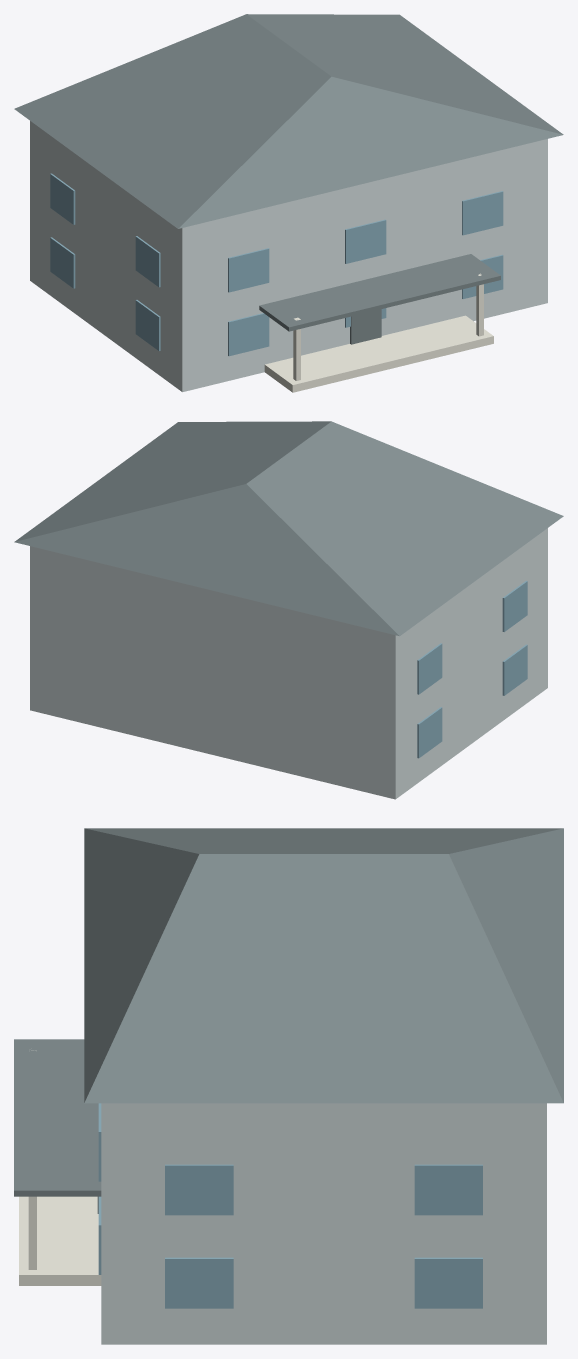
3 renders of one model, top to bottom at view 1: azimuth 30°, elevation 25°; view 2: azimuth 150°, elevation 25°; view 3: azimuth 270°, elevation 25°, orthographic. The views are drawn at different scales.
Size of the model in its own units: 19 by 11.6 by 16.05.
